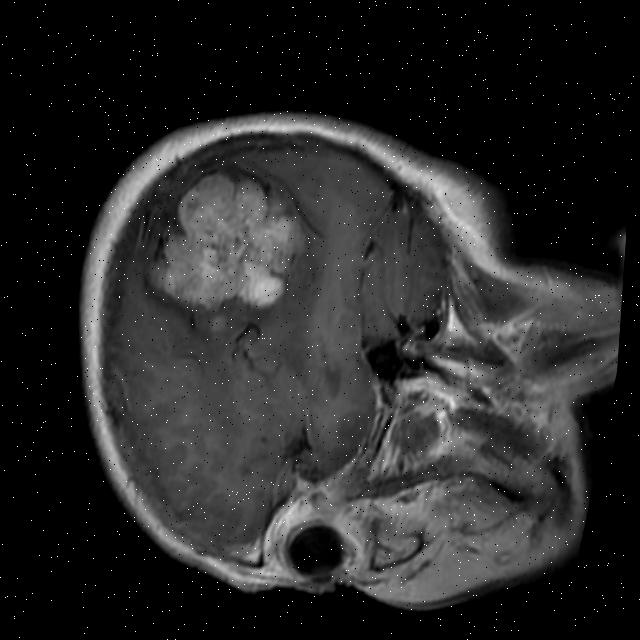Meningioma: (143, 162, 309, 323)
